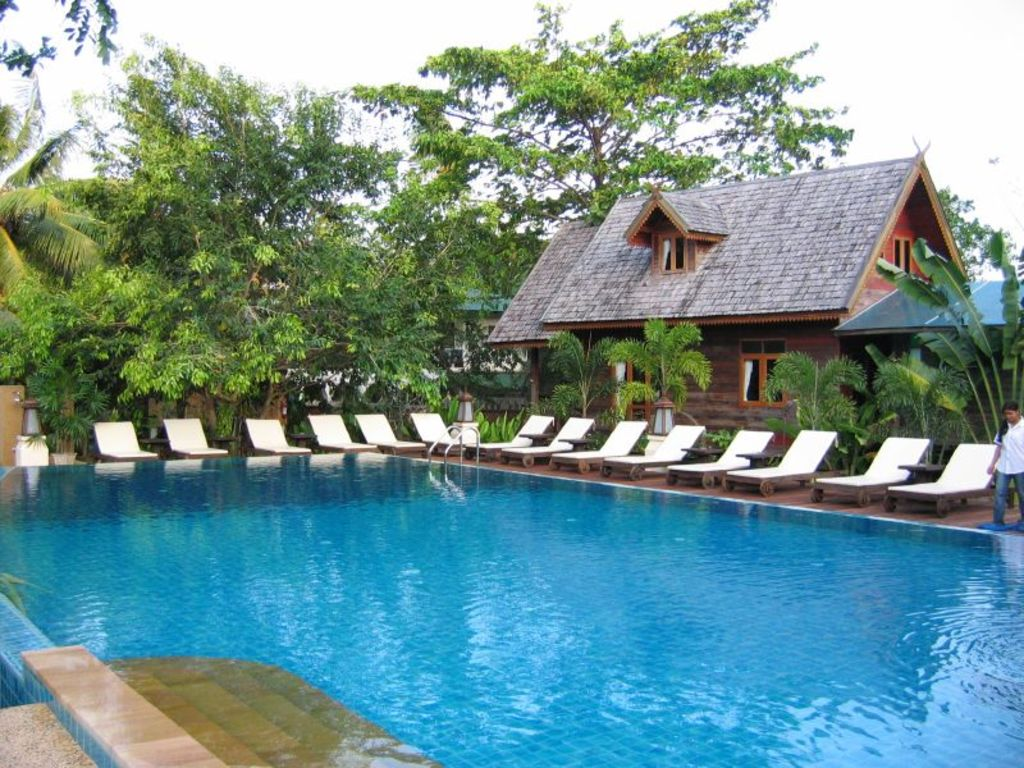Tree: (0, 0, 855, 429), (935, 184, 1012, 279)
